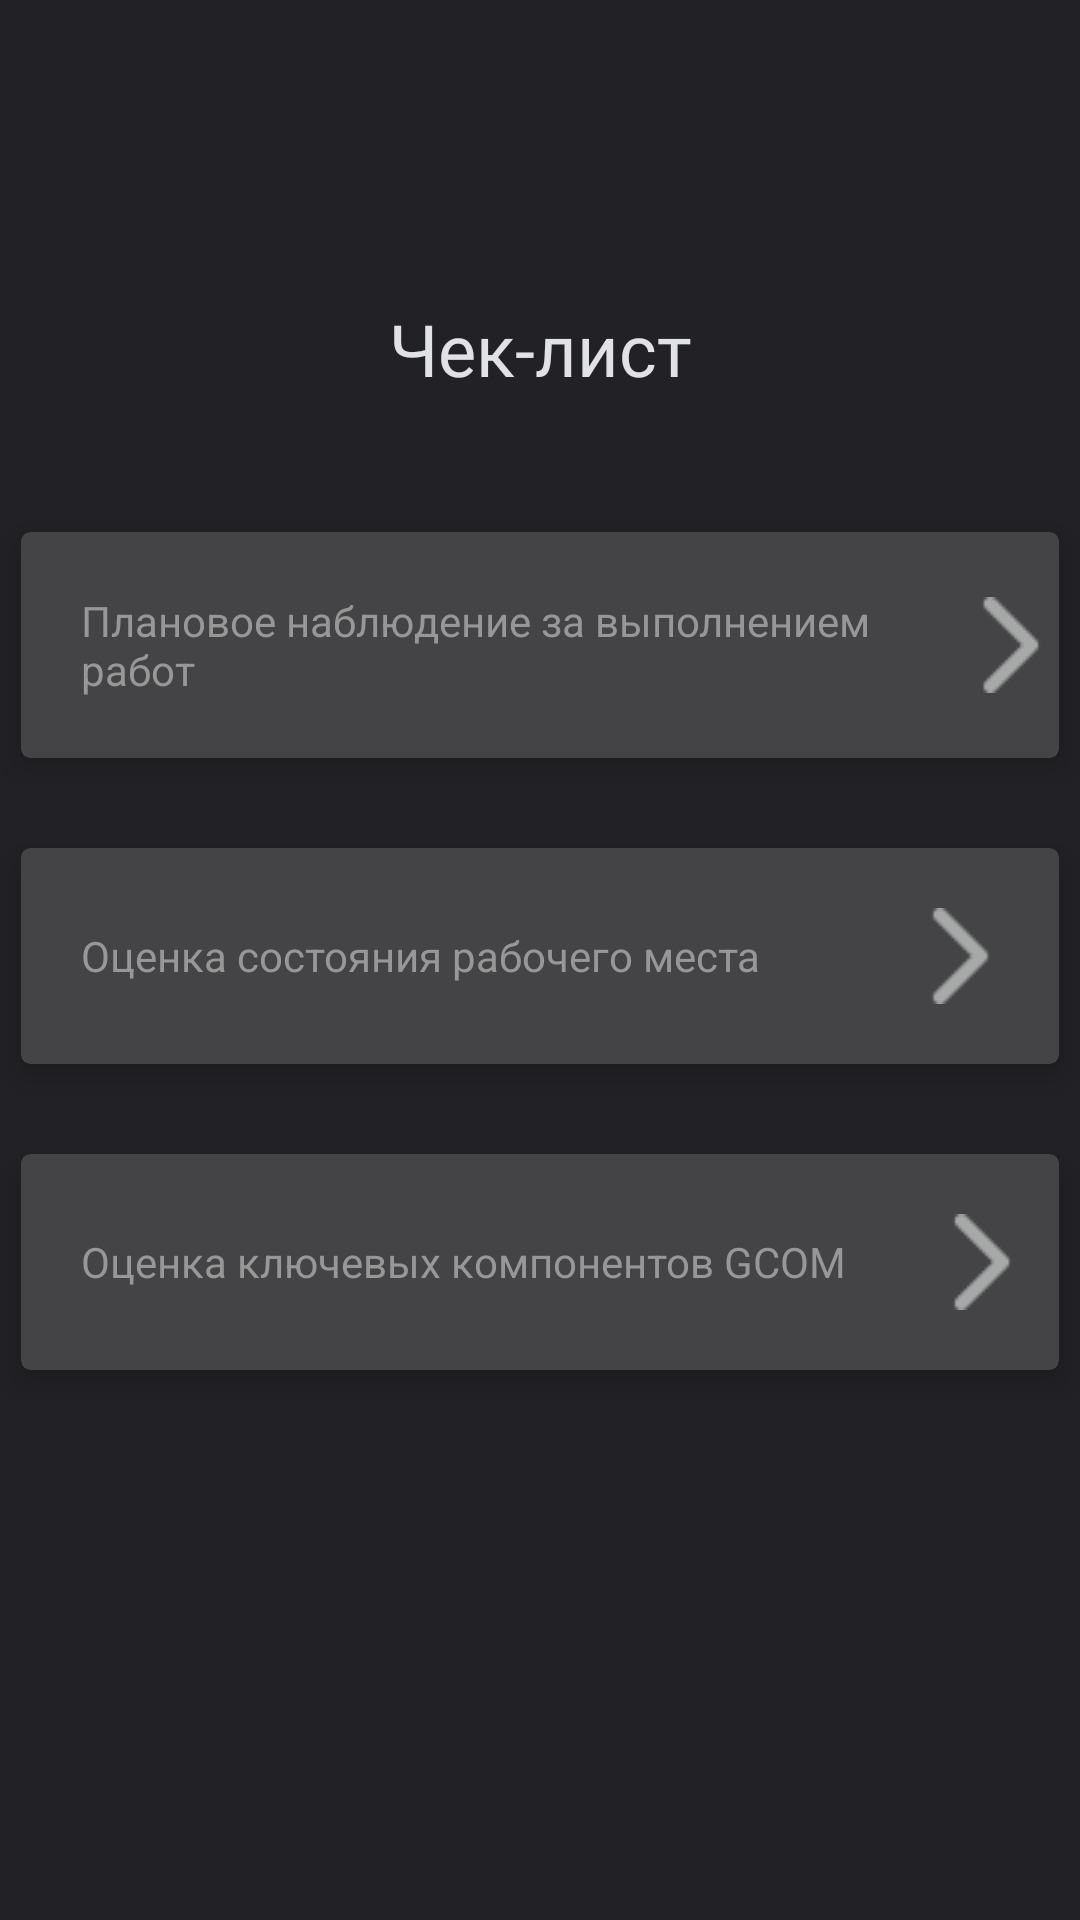

Icon bounding boxes for this 1080px x 1920px phone screenshot, format (x1, y1, x2, y2):
arrow right: (983, 597, 1039, 693), (933, 908, 988, 1004), (954, 1214, 1010, 1310)
